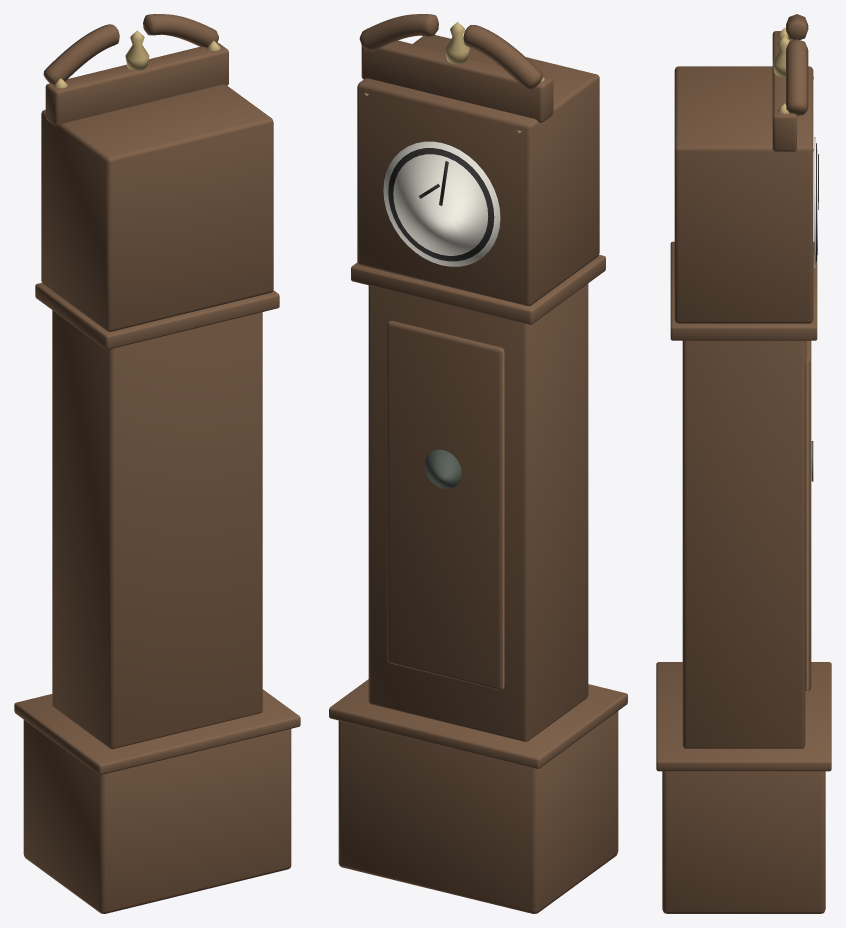
The model's file is grandfather_clock.glb.
The picture shows the model from 3 angles, left to right: view 1: azimuth 30°, elevation 25°; view 2: azimuth 150°, elevation 25°; view 3: azimuth 270°, elevation 25°; orthographic projection. The views are drawn at different scales.
Parts seen in each view (by area): view 1: grandfather_clock; view 2: grandfather_clock; view 3: grandfather_clock.
Part boxes in pixels (box(x1,y1,x2,y2)): grandfather_clock: box(14, 14, 300, 913); grandfather_clock: box(329, 14, 627, 913); grandfather_clock: box(656, 14, 831, 913).
Size of the model in its own units: 0.58 by 2.27 by 0.43.
